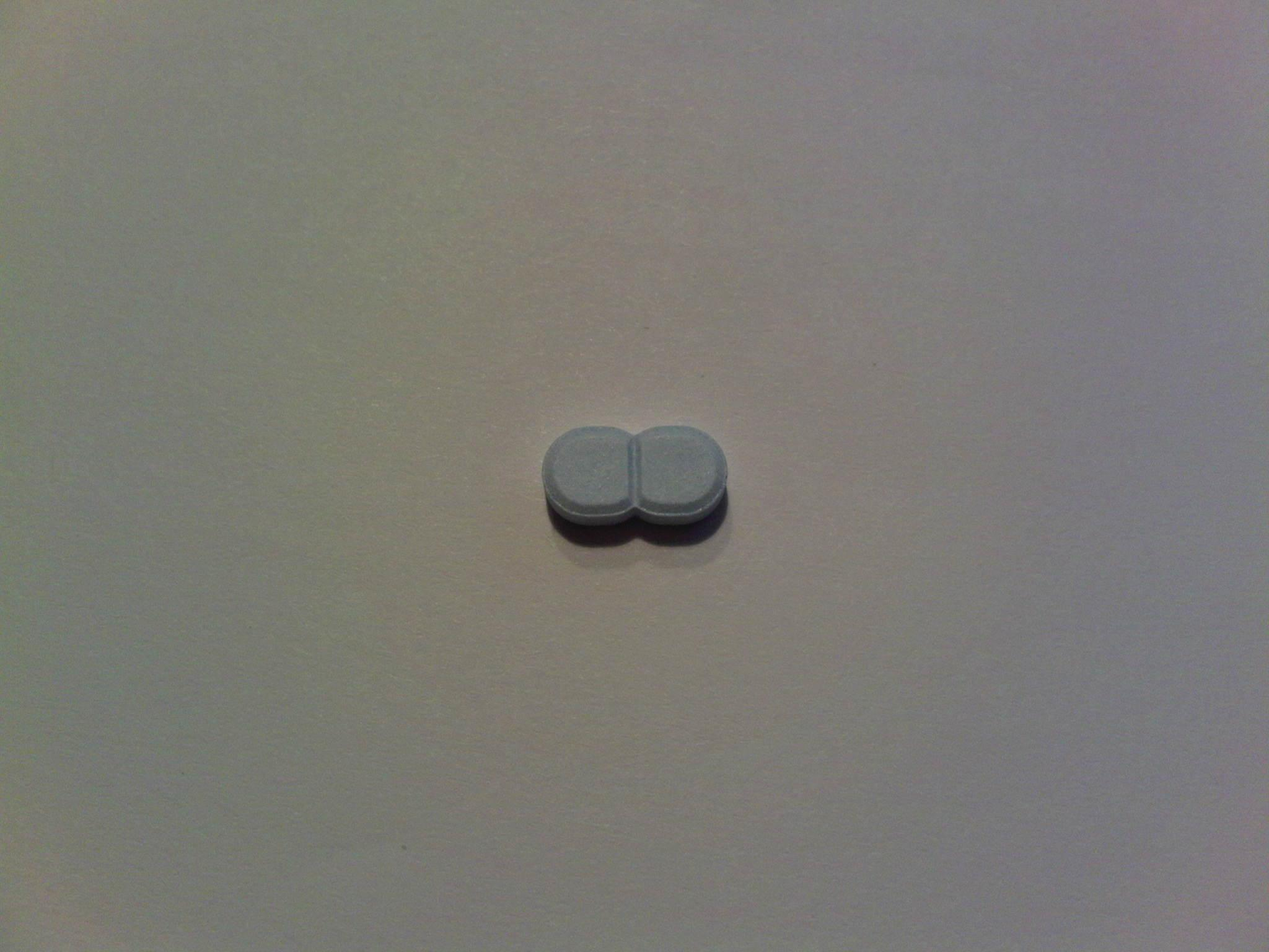Pill: (525, 406, 741, 556)
